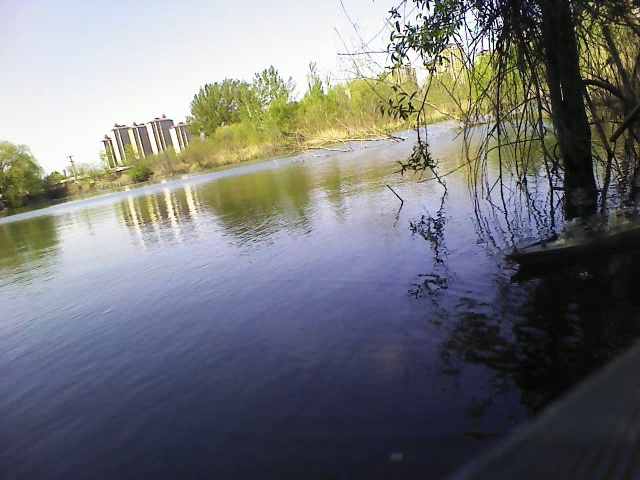warship: (493, 193, 639, 273)
